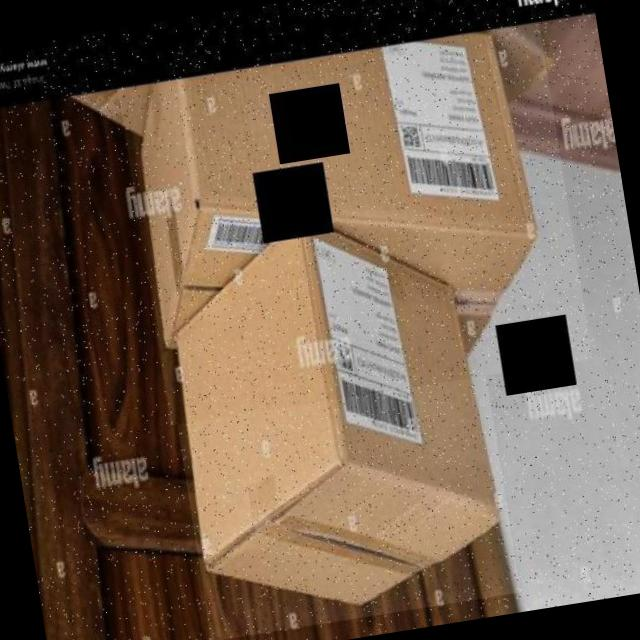box: (118, 21, 593, 426), (147, 187, 520, 640)
